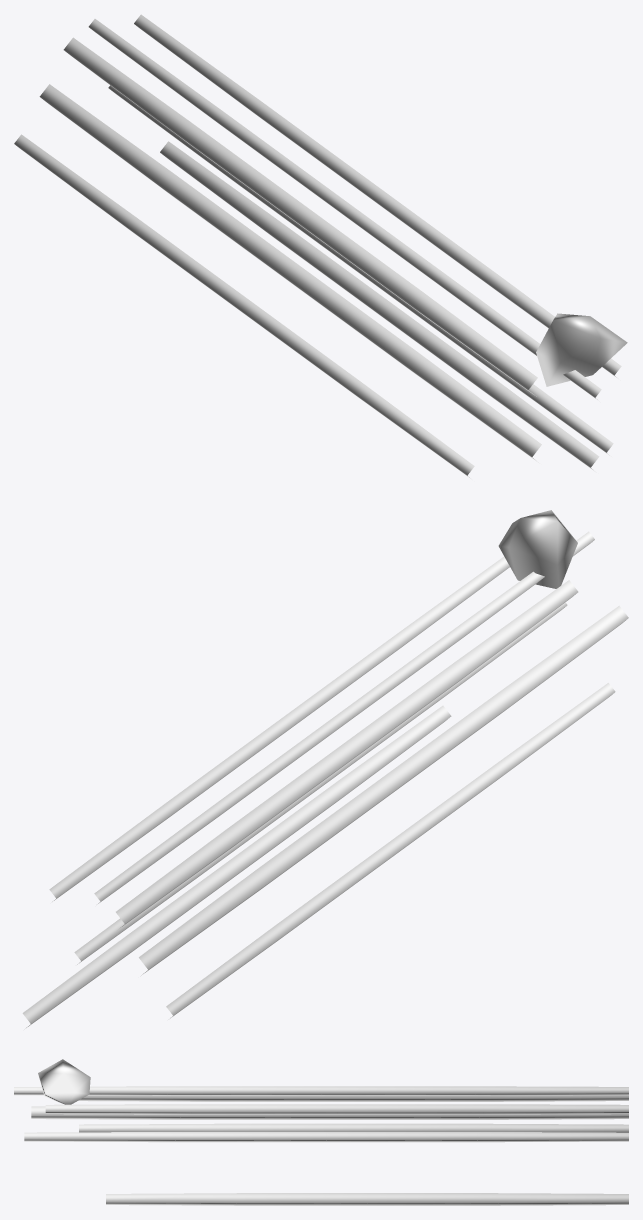
Rendered from SM_Bamboo_Cluster.glb.
3 views of the same model, one above another, from view 1: azimuth 30°, elevation 25°; view 2: azimuth 150°, elevation 25°; view 3: azimuth 270°, elevation 25° (orthographic). The views are drawn at different scales.
Parts seen in each view (by area): view 1: asset_bamboo_cluster; view 2: asset_bamboo_cluster; view 3: asset_bamboo_cluster.
Boxes of the visible parts, x1=… form: asset_bamboo_cluster: x1=14, y1=14, x2=627, y2=479; asset_bamboo_cluster: x1=22, y1=510, x2=628, y2=1029; asset_bamboo_cluster: x1=14, y1=1059, x2=628, y2=1205.
Bounding box in the file's own units: 0.6375 × 0.7424 × 3.38.
Materials: 2 (2 with a texture image).
